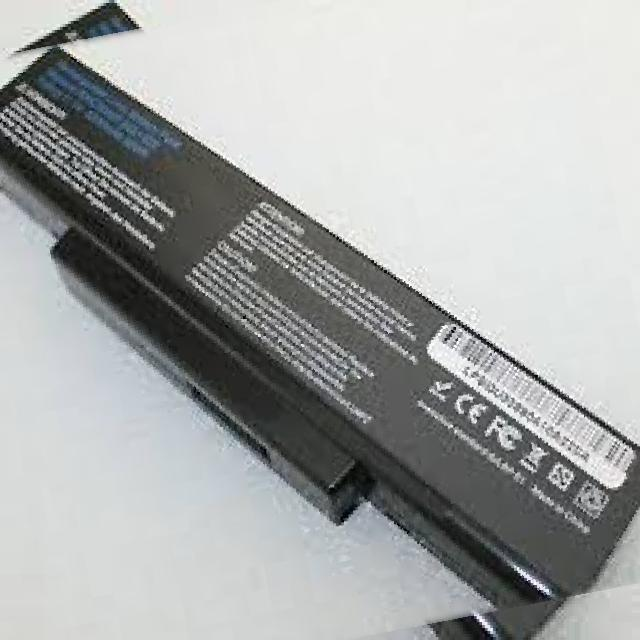Battery: (0, 43, 640, 614)
